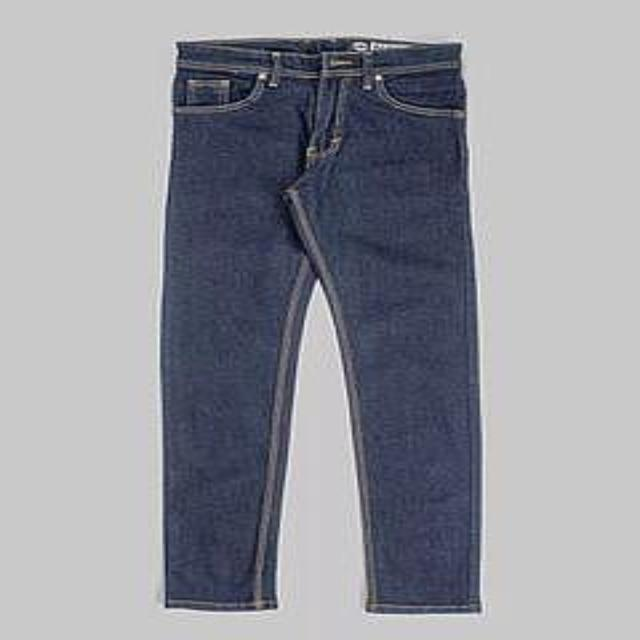TROUSER: (142, 26, 508, 628)
